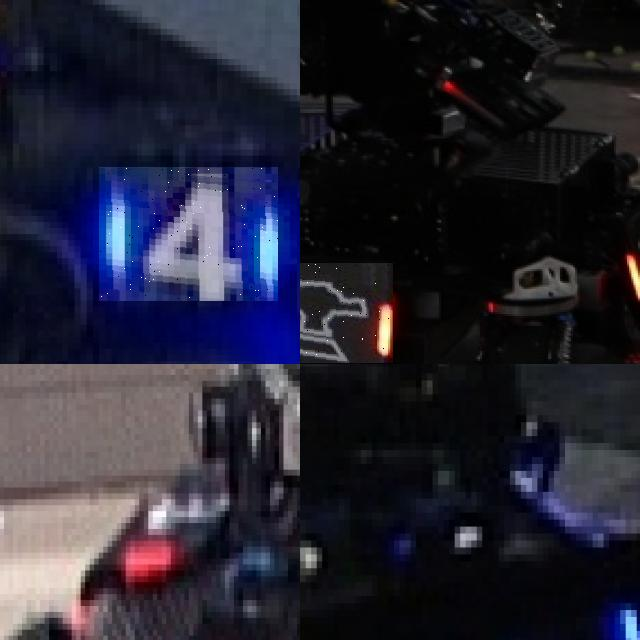B3: (300, 492, 333, 624)
B4: (99, 167, 278, 301)
R3: (108, 458, 229, 576)
Rs: (300, 263, 393, 362), (625, 212, 640, 310)
